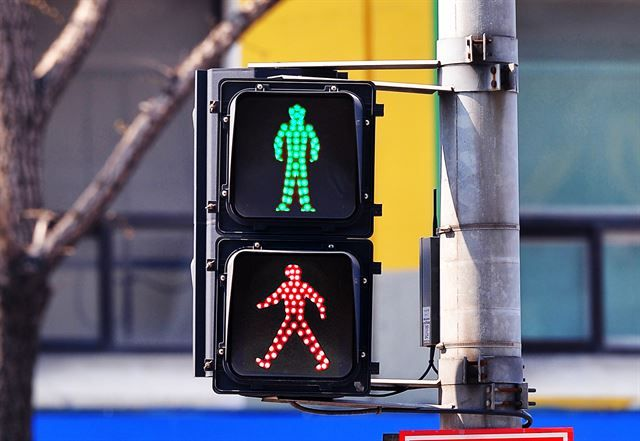traffic_light: (195, 70, 374, 395)
